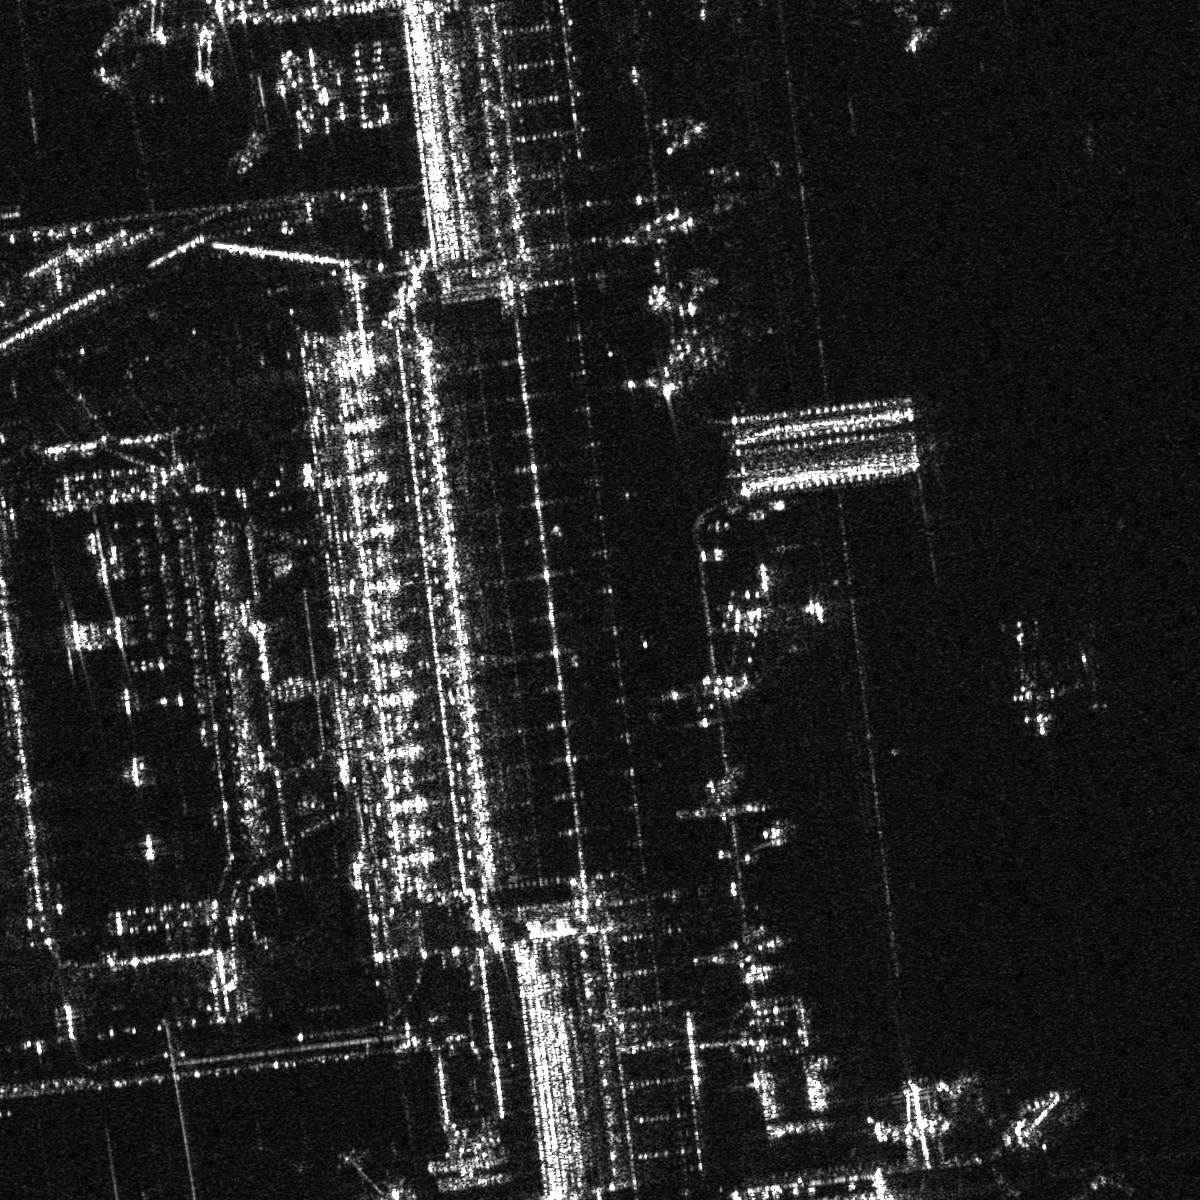Boeing787: (685, 760, 785, 848)
